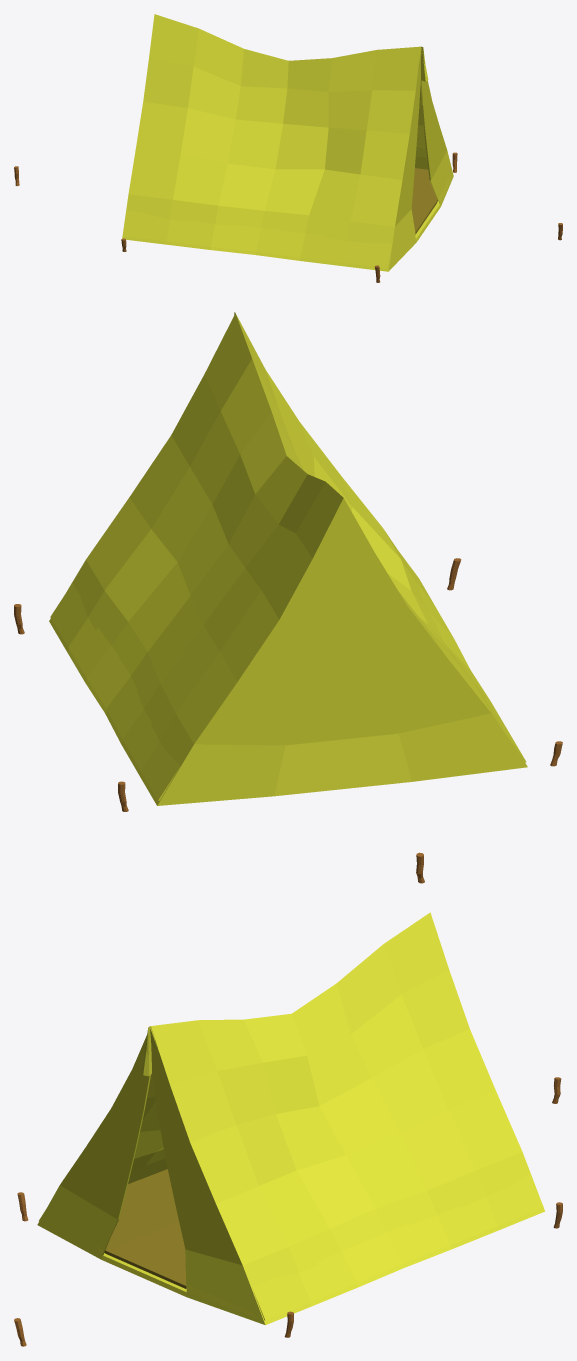
The model's file is tent.fbx.
3 renders of one model, top to bottom at view 1: azimuth 30°, elevation 25°; view 2: azimuth 150°, elevation 25°; view 3: azimuth 270°, elevation 25°, orthographic. The views are drawn at different scales.
Visible parts, largest first — view 1: tent, tentdown; view 2: tent; view 3: tent, tentdown.
Part boxes in pixels (x1,y1,x2,y2): tent: (122, 14, 453, 271); tentdown: (411, 168, 437, 234); tent: (49, 312, 527, 805); tent: (37, 912, 544, 1325); tentdown: (104, 1169, 186, 1288).
Bounding box in the file's own units: 1124 × 549 × 1070.
